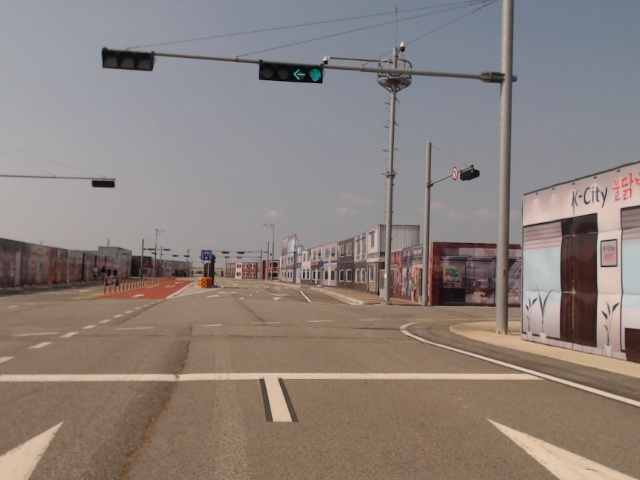all_green_4: (259, 61, 324, 84)
